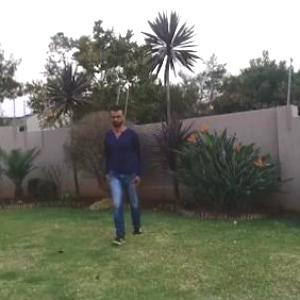follow: (106, 109, 142, 234)
